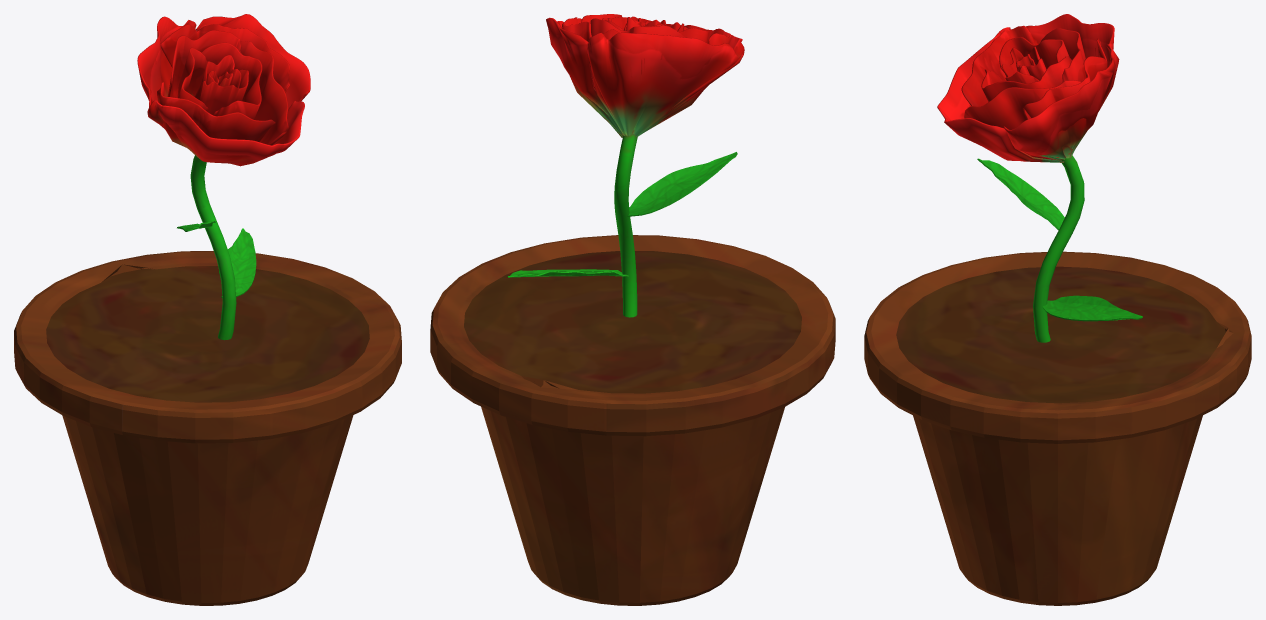
File: planta8.fbx
The picture shows the model from 3 angles, left to right: view 1: azimuth 30°, elevation 25°; view 2: azimuth 150°, elevation 25°; view 3: azimuth 270°, elevation 25°; orthographic projection. The views are drawn at different scales.
Parts seen in each view (by area): view 1: vaso, terra, flor, caule, folha2; view 2: vaso, terra, flor, caule, folha, folha2; view 3: vaso, terra, flor, caule, folha2, folha.
Part boxes in pixels (x1,y1,x2,y2): vaso: (14,251,401,605); terra: (46,266,369,402); flor: (137,14,310,166); caule: (190,155,236,340); folha2: (219,228,256,297); vaso: (430,235,835,605); terra: (464,251,801,393); flor: (546,14,744,137); caule: (614,134,637,317); folha: (627,152,737,216); folha2: (507,269,628,277); vaso: (864,251,1251,605); terra: (896,266,1225,403); flor: (937,14,1119,162); caule: (1033,155,1084,342); folha2: (1043,295,1142,321); folha: (977,158,1064,230).
Bounding box in the file's own units: 287 × 434 × 287.
Materials: 4 (4 with a texture image).
